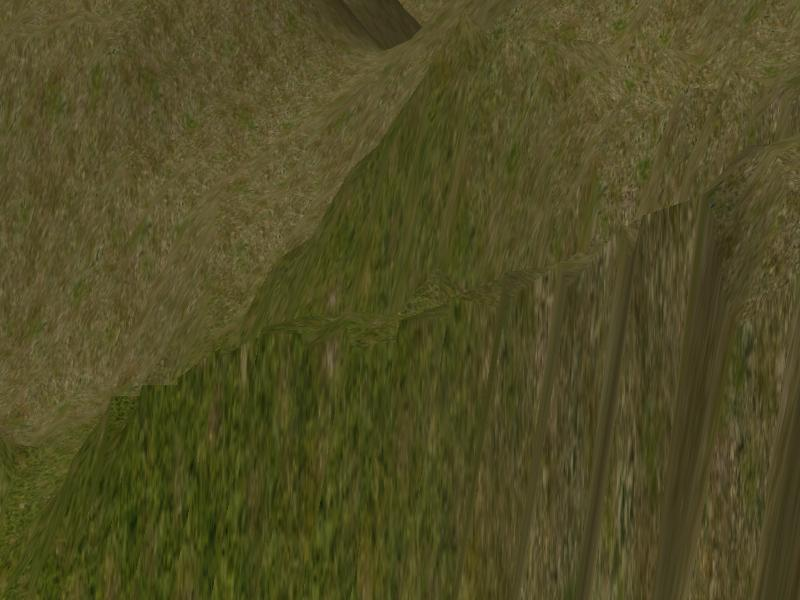background: (2, 1, 800, 599)
